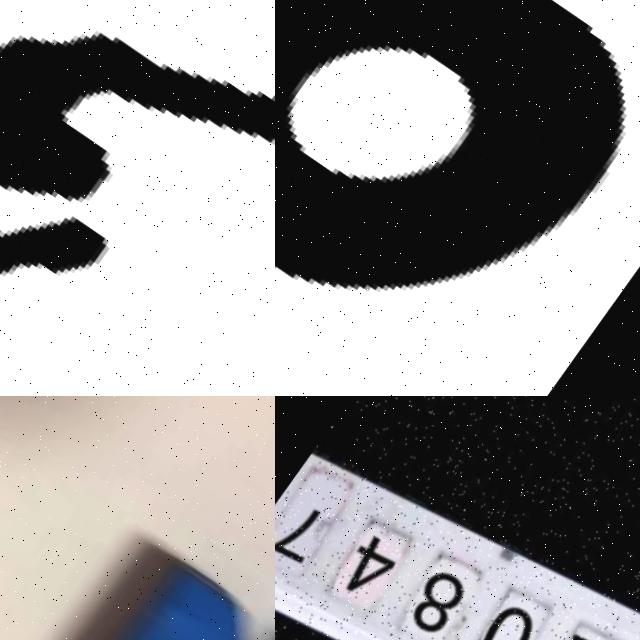0: (450, 580, 569, 640)
3: (0, 0, 275, 396)
4: (316, 513, 427, 630)
7: (275, 479, 353, 590)
8: (380, 545, 497, 640)
A: (275, 0, 640, 396)
N: (55, 552, 275, 640)
